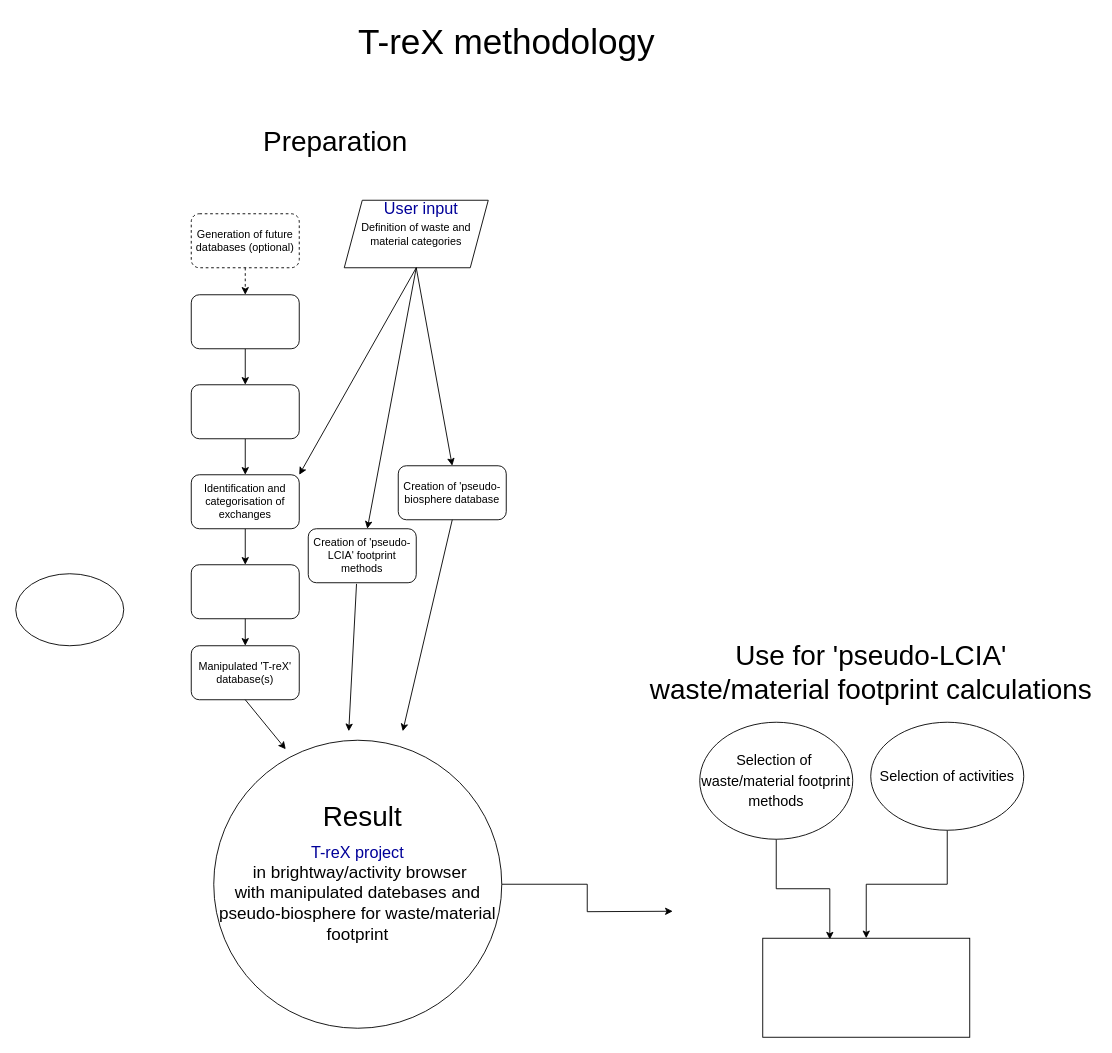
Image size: 1112x1053. Some labels were removed from this diagram. The box of each missing label's shape, as (x1, y1, x2, y2) in pixels:
'Pseudo-biosphere' exchanges appended to matching activities: (190, 564, 299, 619)
Calculation of waste and material inventory footprints (on-demand): (762, 937, 970, 1037)
Expansion each to a list of exchanges (explain better - graphic - extract): (190, 384, 299, 439)
LCA database(s): (190, 294, 299, 349)
MIRRORED EXCHANGES: (15, 573, 124, 646)
